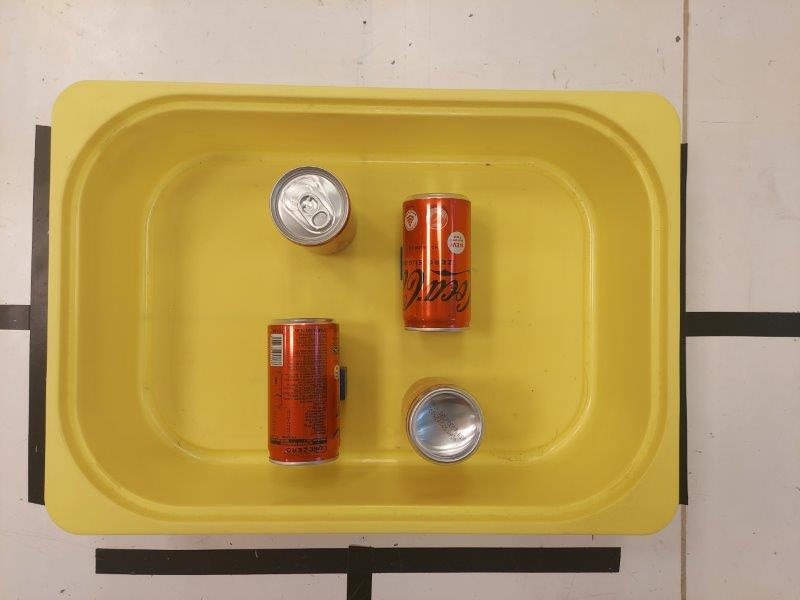Coke: (269, 320, 342, 463), (403, 193, 470, 332), (270, 166, 357, 256), (402, 376, 484, 463)
